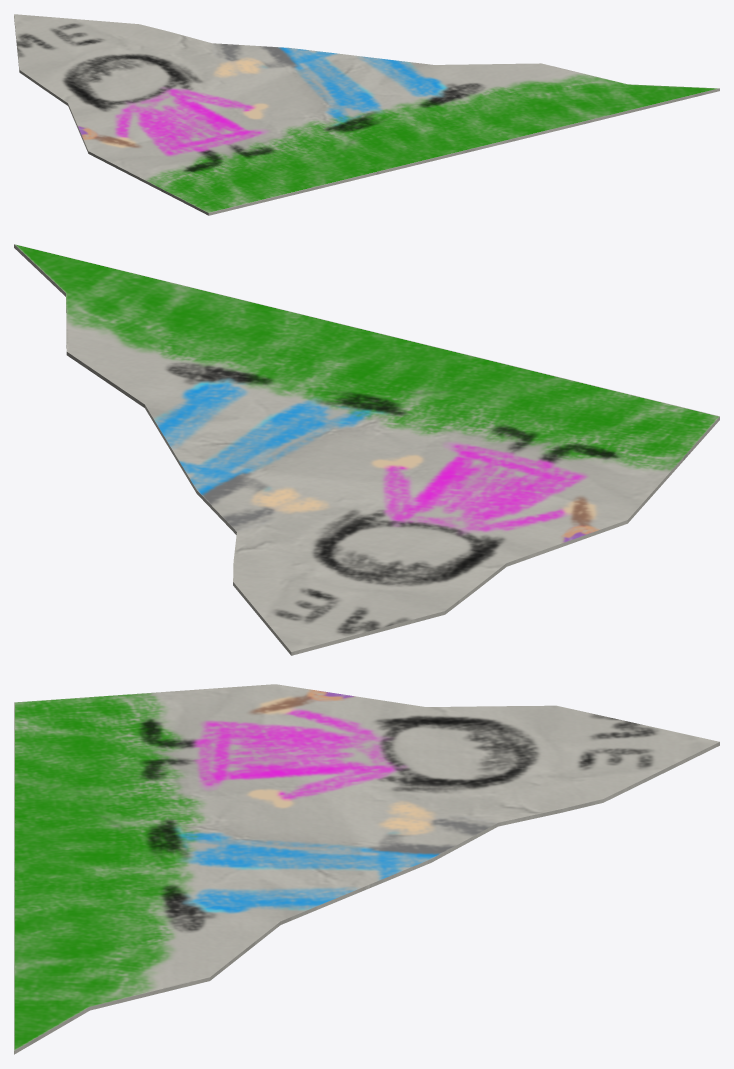
Rendered from DrawingFragments3.fbx.
The picture shows the model from 3 angles, top to bottom: view 1: azimuth 30°, elevation 25°; view 2: azimuth 150°, elevation 25°; view 3: azimuth 270°, elevation 25°; orthographic projection. The views are drawn at different scales.
Visible parts, largest first — view 1: Fragment_3; view 2: Fragment_3; view 3: Fragment_3.
Boxes of the visible parts, x1,y1,x2,y2 form: Fragment_3: [14, 14, 719, 215]; Fragment_3: [14, 244, 719, 655]; Fragment_3: [14, 684, 719, 1054].
Size of the model in its own units: 256 by 1.22 by 208.
